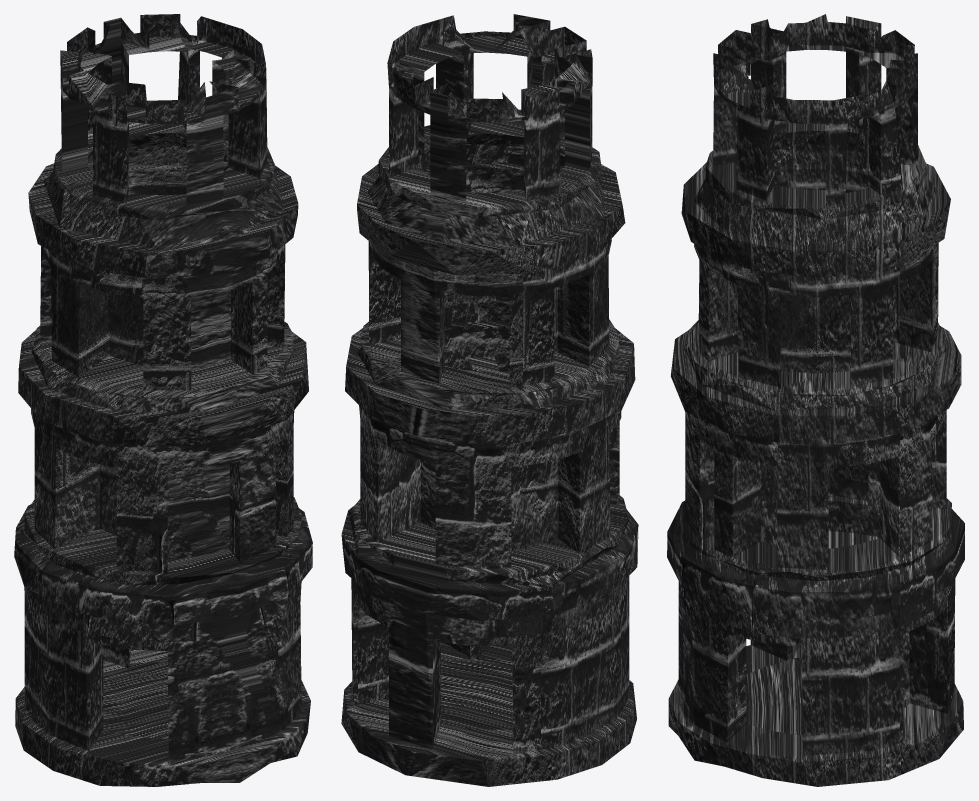
Rendered from buruj2.fbx.
3 views of the same model, side by side, from view 1: azimuth 30°, elevation 25°; view 2: azimuth 150°, elevation 25°; view 3: azimuth 270°, elevation 25° (orthographic).
Visible parts, largest first — view 1: Cylinder.018; view 2: Cylinder.018; view 3: Cylinder.018.
Boxes of the visible parts, box(x1,y1,x2,y2) form: Cylinder.018: box(14, 14, 312, 786); Cylinder.018: box(341, 14, 638, 786); Cylinder.018: box(667, 14, 964, 786).
Bounding box in the file's own units: 1246 × 3085 × 1246.
